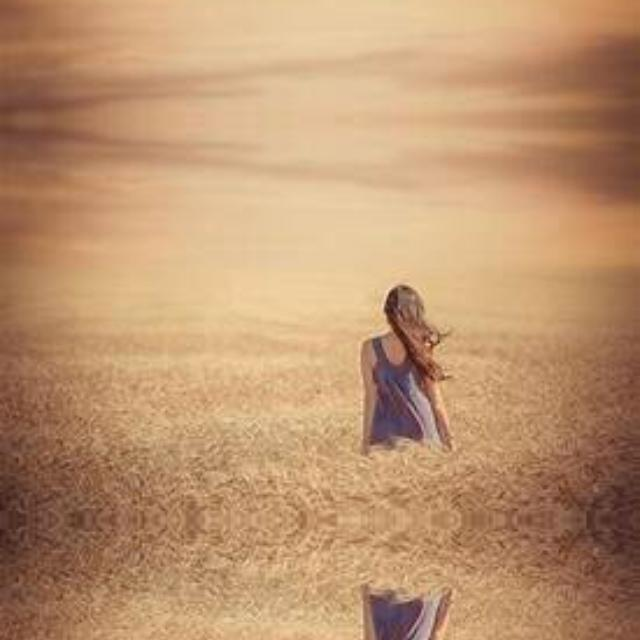person: (349, 258, 467, 480), (349, 557, 467, 640)
